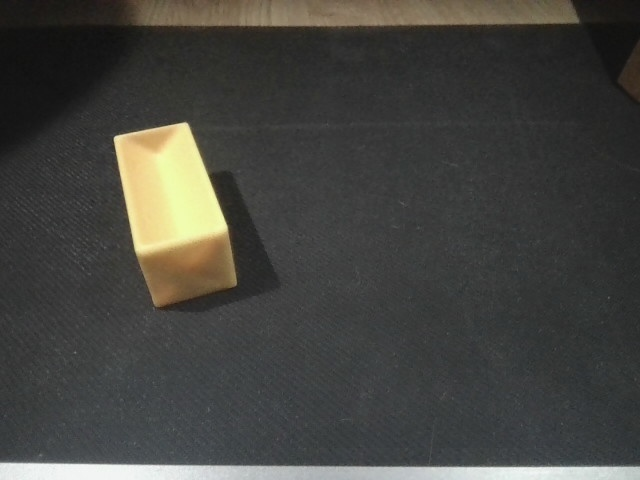YellowSample: (109, 117, 246, 309)
